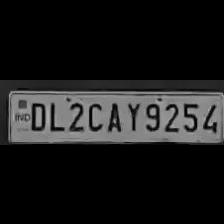2: (64, 98, 84, 132), (161, 100, 179, 132)
4: (200, 100, 218, 132)
5: (179, 98, 199, 132)
9: (142, 98, 160, 132)
A: (103, 98, 123, 132)
C: (84, 98, 104, 132)
D: (26, 98, 46, 132)
L: (46, 98, 62, 132)
Y: (124, 98, 140, 132)
